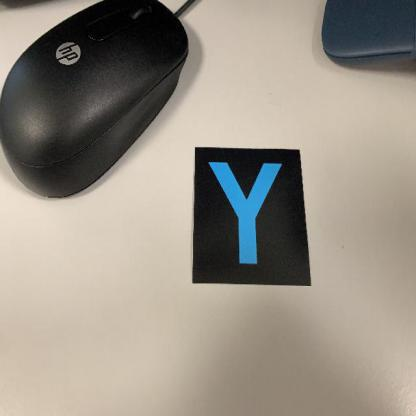y: (192, 145, 312, 288)
